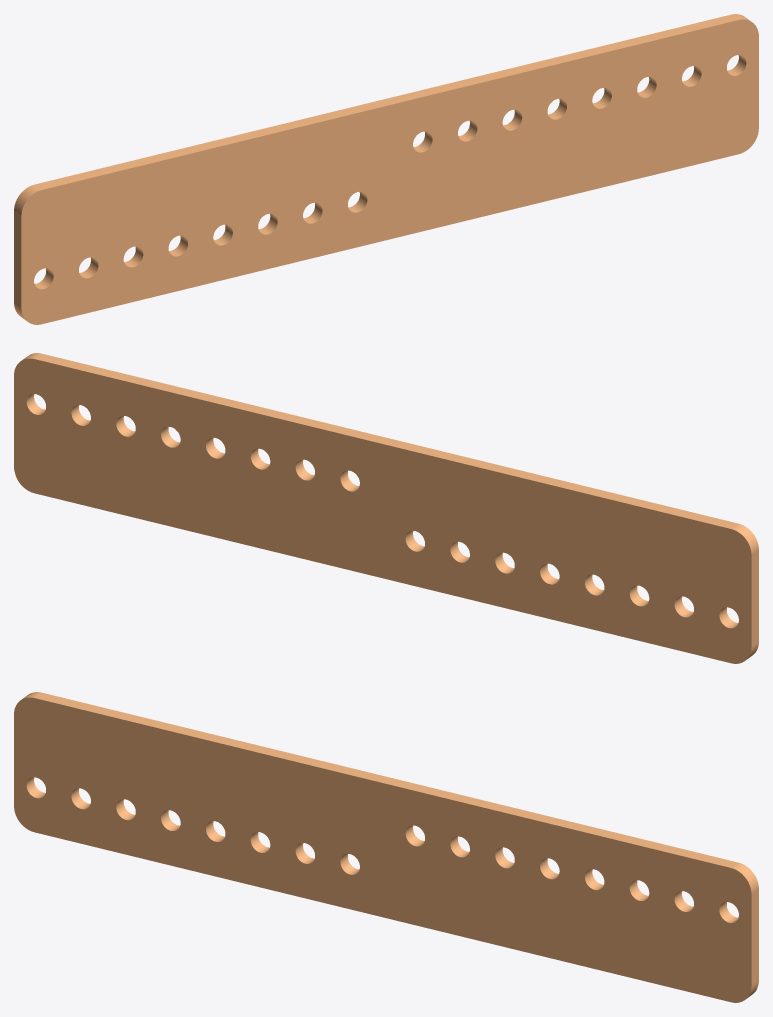
The model's file is BATTERY MODULE V1__BUSBAR.glb.
3 views of the same model, one above another, from view 1: azimuth 30°, elevation 25°; view 2: azimuth 150°, elevation 25°; view 3: azimuth 330°, elevation 25° (orthographic).
Size of the model in its own units: 0.2299 by 0.04 by 0.004.
